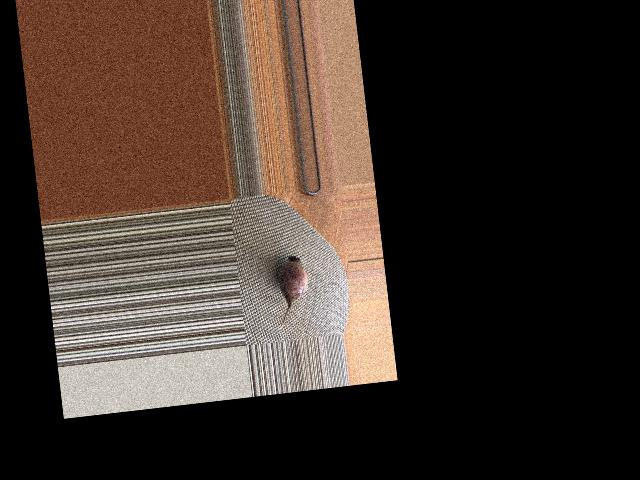beet: (269, 254, 312, 329)
